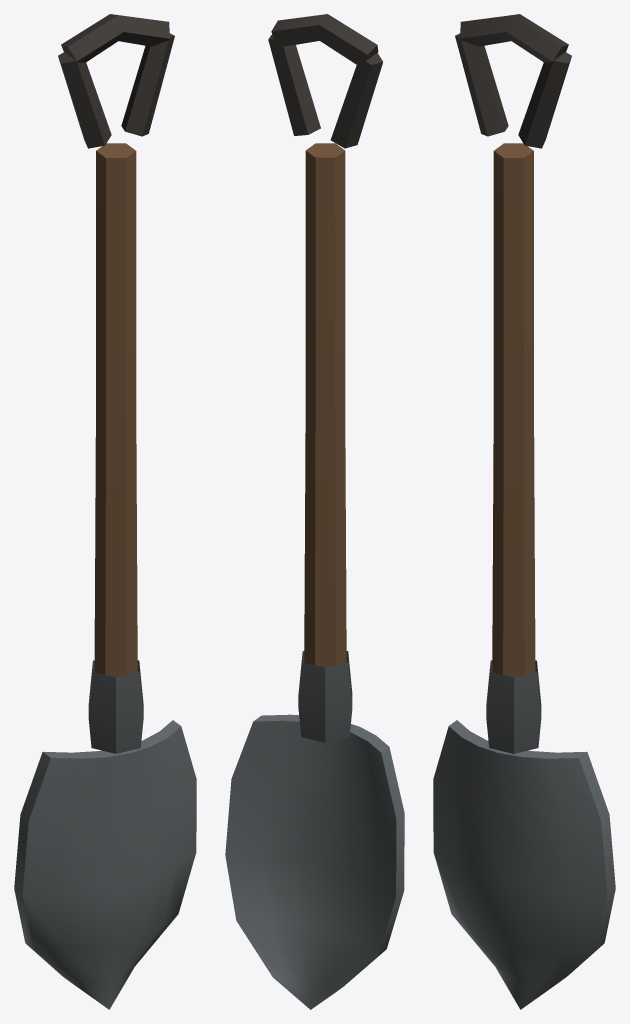
Rendered from shovel-2.glb.
3 renders of one model, left to right at view 1: azimuth 30°, elevation 25°; view 2: azimuth 150°, elevation 25°; view 3: azimuth 330°, elevation 25°, orthographic.
Parts seen in each view (by area): view 1: shovel-2; view 2: shovel-2; view 3: shovel-2.
Part boxes in pixels (x1,y1,x2,y2): shovel-2: [14, 14, 196, 1009]; shovel-2: [225, 14, 404, 1009]; shovel-2: [433, 14, 615, 1009].
Size of the model in its own units: 0.12 by 0.6606 by 0.044.
